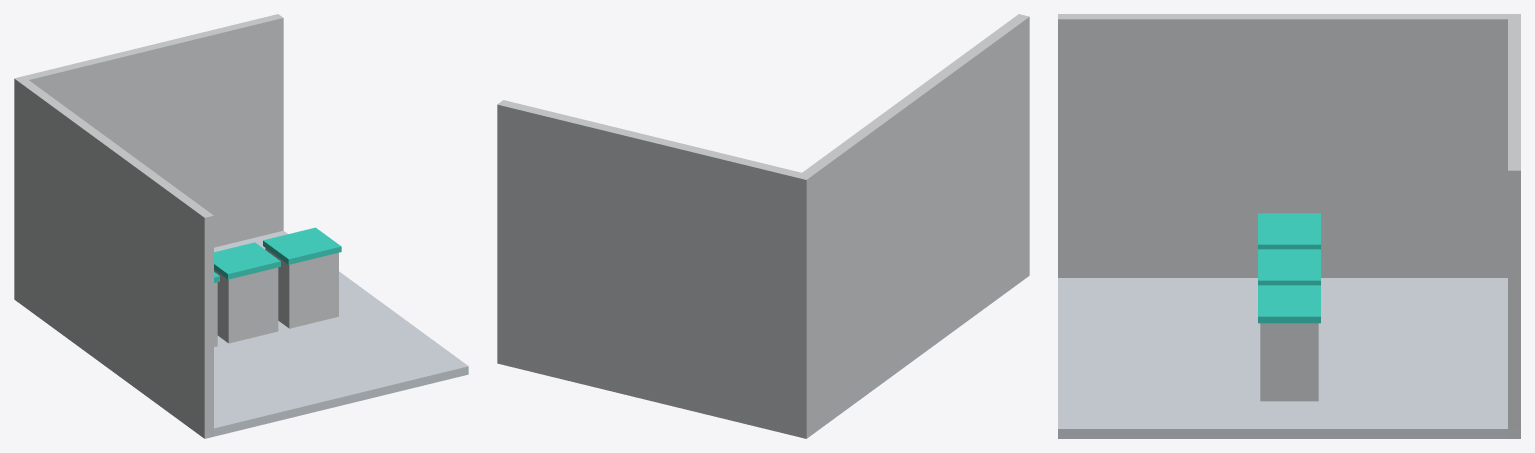
3 views of the same model, side by side, from view 1: azimuth 30°, elevation 25°; view 2: azimuth 150°, elevation 25°; view 3: azimuth 270°, elevation 25° (orthographic). The views are drawn at different scales.
Parts seen in each view (by area): view 1: Exhibition Booth Concept; view 2: Exhibition Booth Concept; view 3: Exhibition Booth Concept.
Boxes of the visible parts, left/top/right/bottom form: Exhibition Booth Concept: left=14, top=14, right=468, bottom=438; Exhibition Booth Concept: left=497, top=14, right=1029, bottom=438; Exhibition Booth Concept: left=1058, top=14, right=1520, bottom=438.
Bounding box in the file's own units: 4 × 3.2 × 5.
